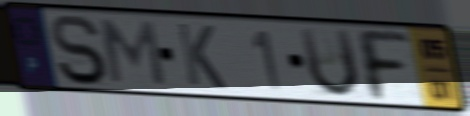1: (250, 28, 283, 92)
F: (351, 26, 414, 104)
K: (173, 20, 230, 92)
M: (97, 17, 169, 89)
S: (48, 12, 110, 88)
U: (296, 25, 362, 100)
